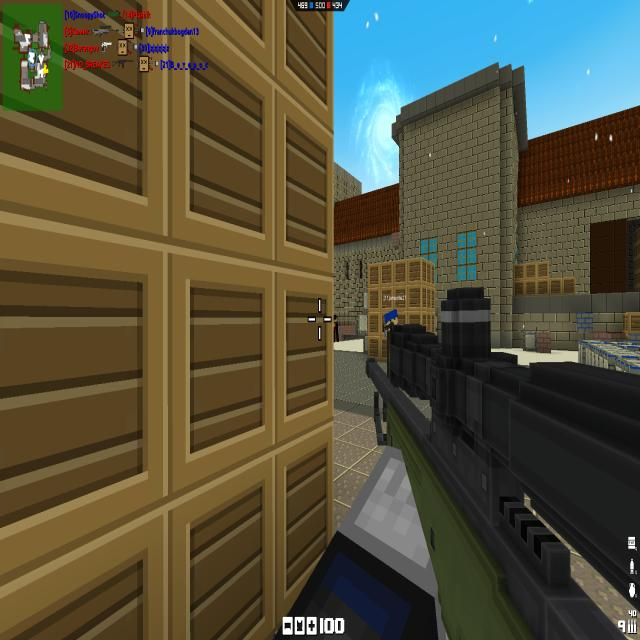player: (384, 311, 400, 382), (334, 316, 339, 342)
